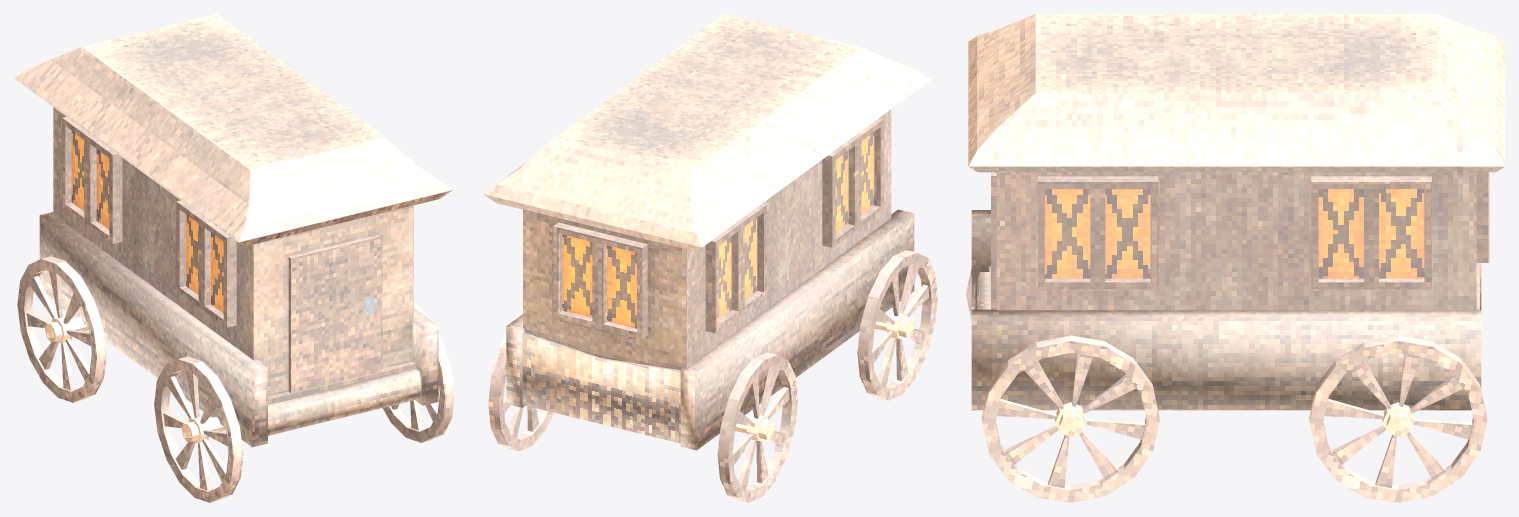
File: cart_2.glb
3 renders of one model, left to right at view 1: azimuth 30°, elevation 25°; view 2: azimuth 150°, elevation 25°; view 3: azimuth 270°, elevation 25°, orthographic. The views are drawn at different scales.
Parts seen in each view (by area): view 1: Cart_2, Wheels_1.001, Wheels_1.002; view 2: Cart_2, Wheels_1.002, Wheels_1.001; view 3: Cart_2, Wheels_1.001, Wheels_1.002.
Part boxes in pixels (bbox=[...]): Cart_2: bbox=[14, 14, 452, 447]; Wheels_1.001: bbox=[154, 301, 454, 502]; Wheels_1.002: bbox=[17, 256, 106, 402]; Cart_2: bbox=[483, 14, 930, 450]; Wheels_1.002: bbox=[488, 308, 797, 502]; Wheels_1.001: bbox=[857, 250, 937, 400]; Cart_2: bbox=[968, 14, 1504, 410]; Wheels_1.001: bbox=[966, 268, 1159, 502]; Wheels_1.002: bbox=[1309, 335, 1487, 502].
Size of the model in its own units: 6.36 by 8.07 by 10.21.
